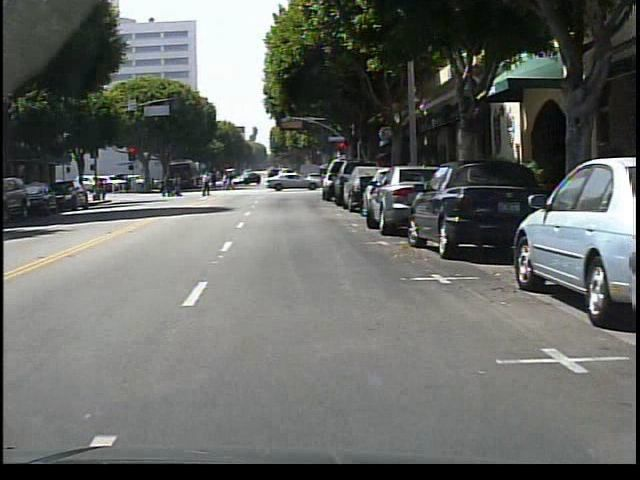person: (195, 169, 215, 199)
